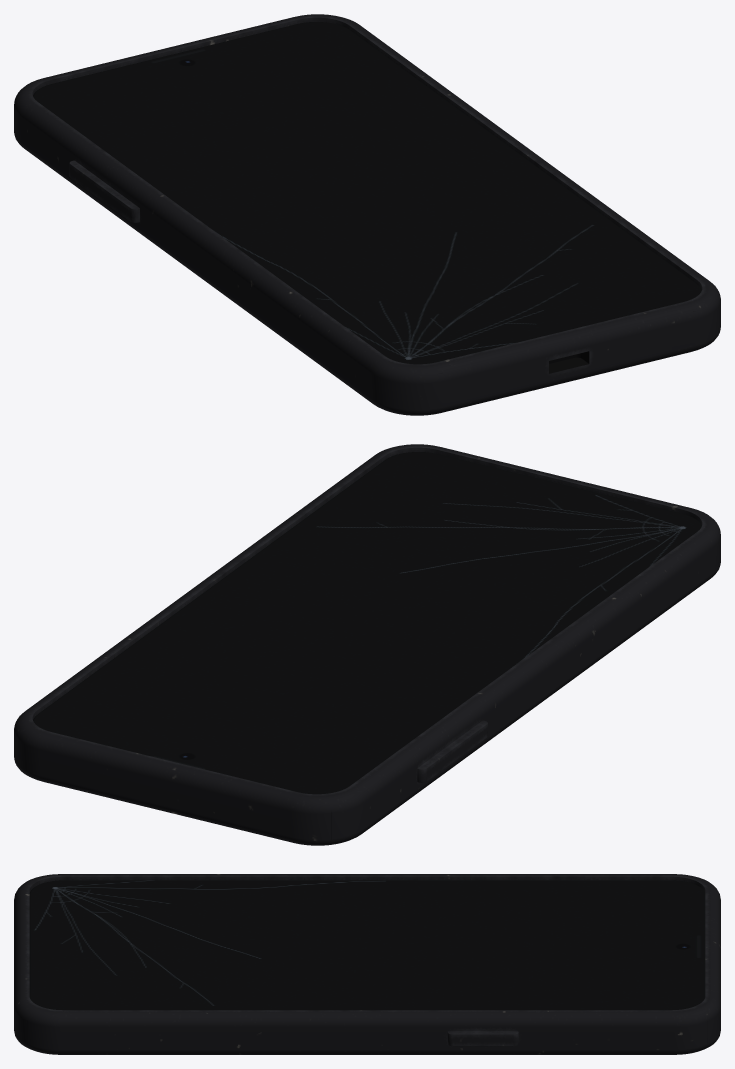
File: SM_Phone.glb
The picture shows the model from 3 angles, top to bottom: view 1: azimuth 30°, elevation 25°; view 2: azimuth 150°, elevation 25°; view 3: azimuth 270°, elevation 25°; orthographic projection. The views are drawn at different scales.
Visible parts, largest first — view 1: SM_Phone; view 2: SM_Phone; view 3: SM_Phone.
Part boxes in pixels (x1,y1,x2,y2): SM_Phone: (14, 14, 720, 415); SM_Phone: (14, 444, 720, 845); SM_Phone: (14, 874, 720, 1054).
Size of the model in its own units: 0.0812 by 0.0102 by 0.159.
3 materials, 3 textured.
